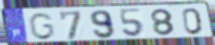0: (181, 7, 204, 35)
5: (118, 7, 146, 39)
7: (57, 10, 83, 41)
8: (150, 8, 176, 37)
9: (88, 8, 117, 40)
G: (27, 12, 56, 41)
